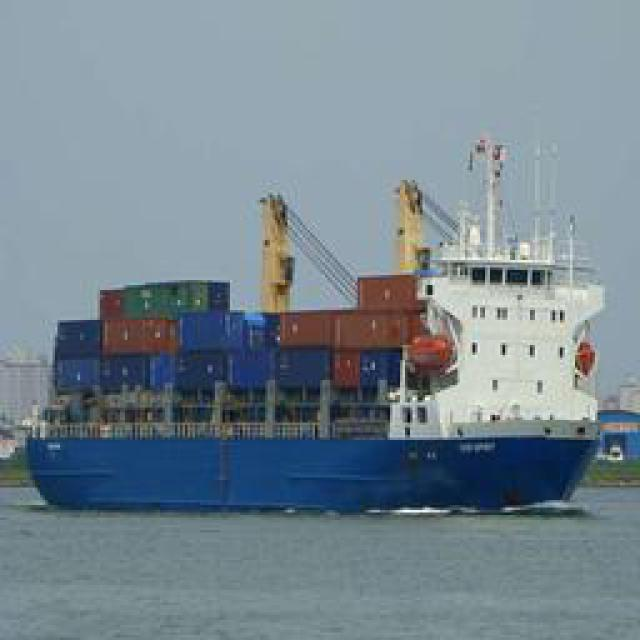Ship: (26, 120, 606, 520)
